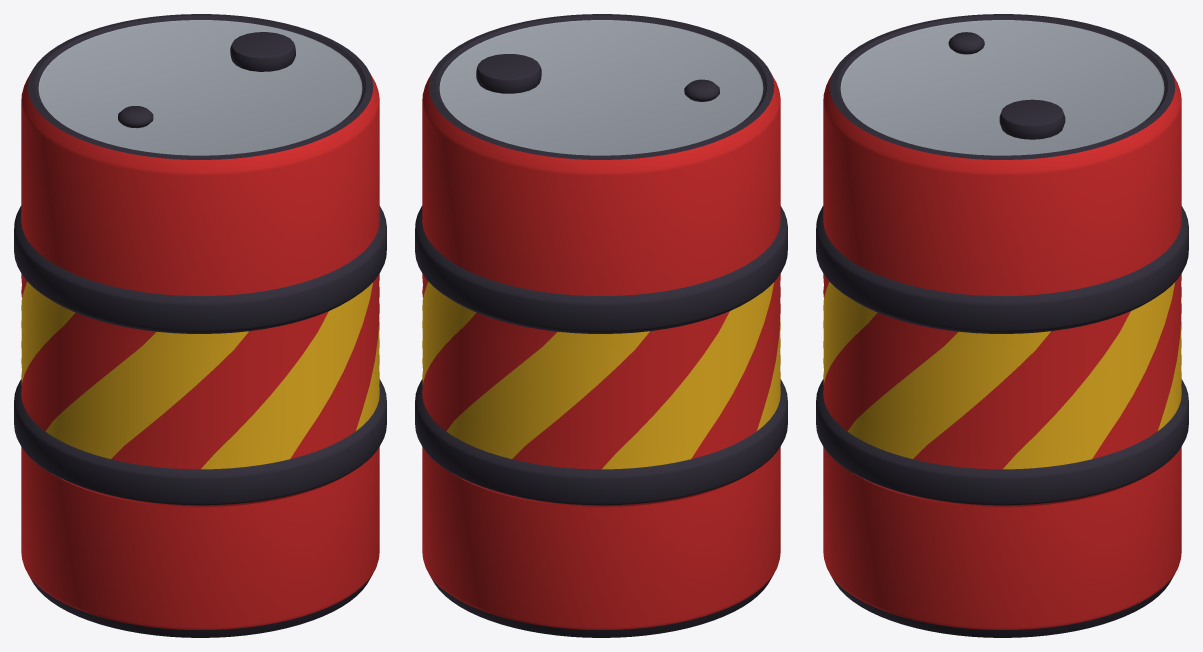
File: barrel_explosive.glb
3 renders of one model, left to right at view 1: azimuth 30°, elevation 25°; view 2: azimuth 150°, elevation 25°; view 3: azimuth 270°, elevation 25°, orthographic.
Visible parts, largest first — view 1: barrel; view 2: barrel; view 3: barrel.
Boxes of the visible parts, x1,y1,x2,y2 form: barrel: (14, 14, 386, 637); barrel: (415, 14, 787, 637); barrel: (816, 14, 1188, 637).
Size of the model in its own units: 0.624 by 0.91 by 0.624.
